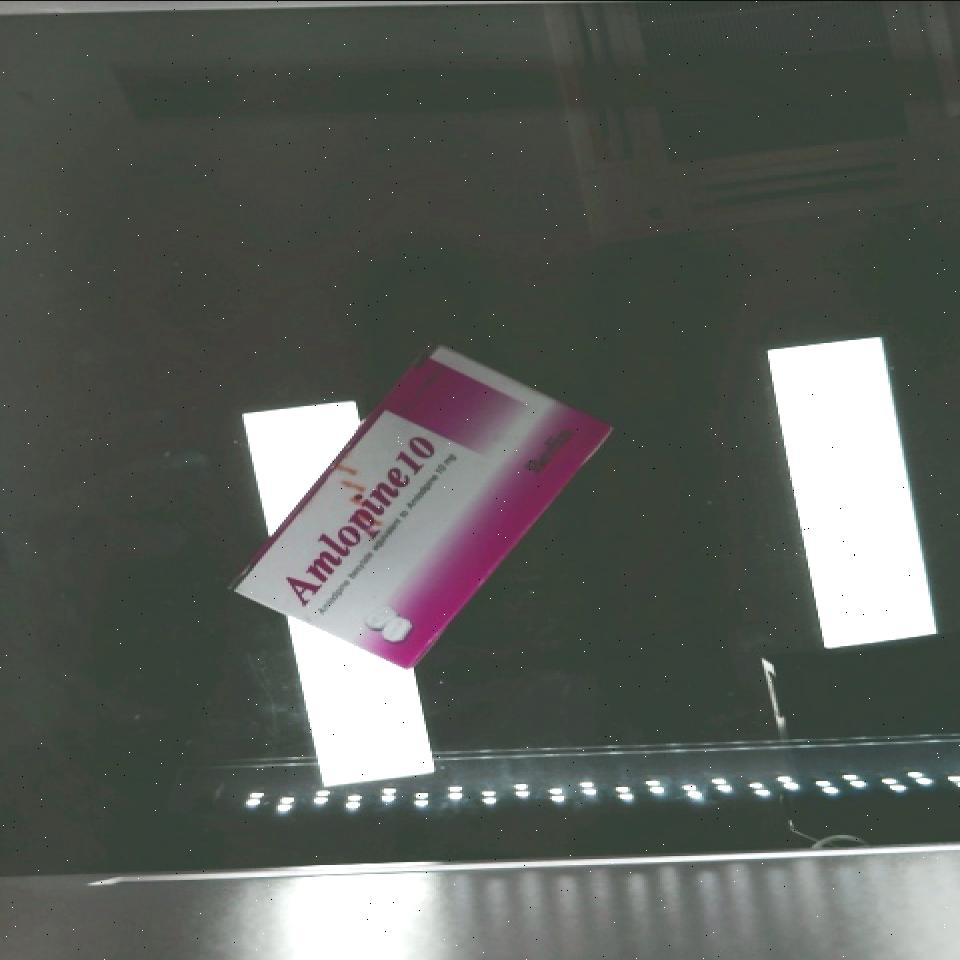medicine_box: (228, 303, 619, 713)
medicine_label_obb: (248, 401, 457, 640)
